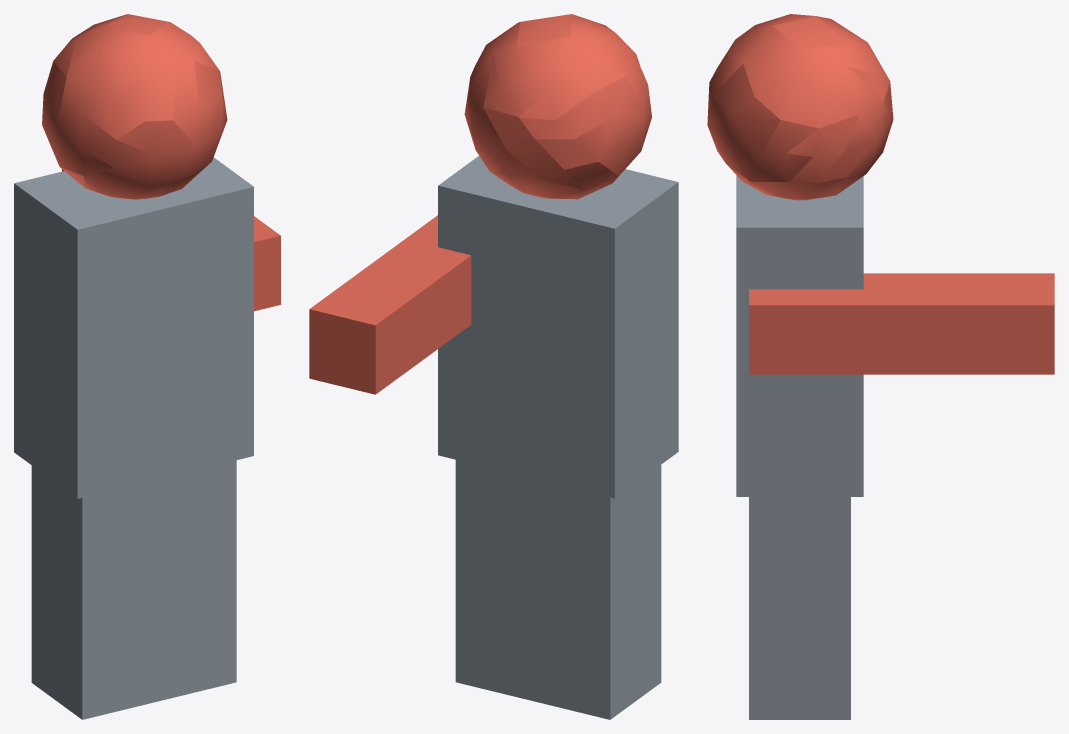
The model's file is SU_MasterEngineer_LOD2.glb.
3 views of the same model, side by side, from view 1: azimuth 30°, elevation 25°; view 2: azimuth 150°, elevation 25°; view 3: azimuth 270°, elevation 25° (orthographic).
Parts seen in each view (by area): view 1: Head; view 2: Head; view 3: Head.
Part boxes in pixels (x1,y1,x2,y2): Head: (14,14,280,719); Head: (309,14,678,719); Head: (707,14,1054,719).
Bounding box in the file's own units: 57 × 172 × 81.81.
